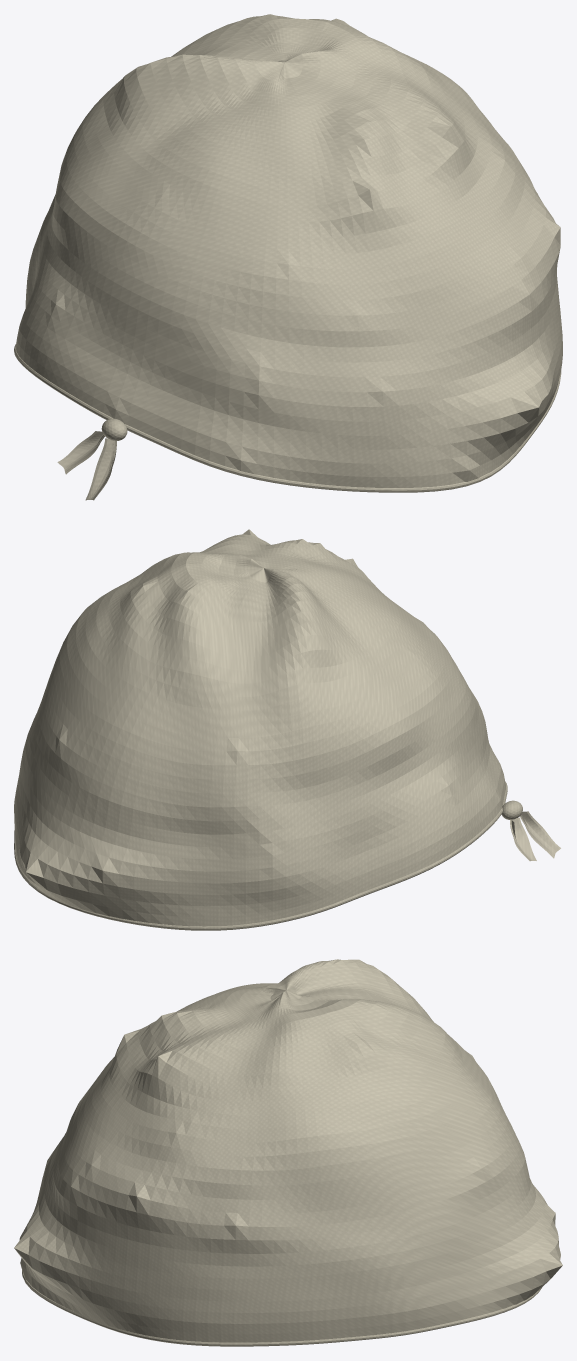
Rendered from side_h_sapper_headcloth.glb.
3 views of the same model, one above another, from view 1: azimuth 30°, elevation 25°; view 2: azimuth 150°, elevation 25°; view 3: azimuth 270°, elevation 25° (orthographic). The views are drawn at different scales.
Visible parts, largest first — view 1: woven_cloth, folded_edge, wrap_ties; view 2: woven_cloth, folded_edge, wrap_ties; view 3: woven_cloth, folded_edge.
Part boxes in pixels (box(x1,y1,x2,y2)): woven_cloth: box(15, 14, 562, 487); folded_edge: box(14, 344, 561, 492); wrap_ties: box(57, 431, 116, 500); woven_cloth: box(14, 529, 505, 926); folded_edge: box(14, 782, 522, 930); wrap_ties: box(510, 811, 560, 861); woven_cloth: box(14, 959, 562, 1342); folded_edge: box(22, 1270, 541, 1346).
Bounding box in the file's own units: 19 × 11.8 × 20.77.
4 materials, 4 textured.
